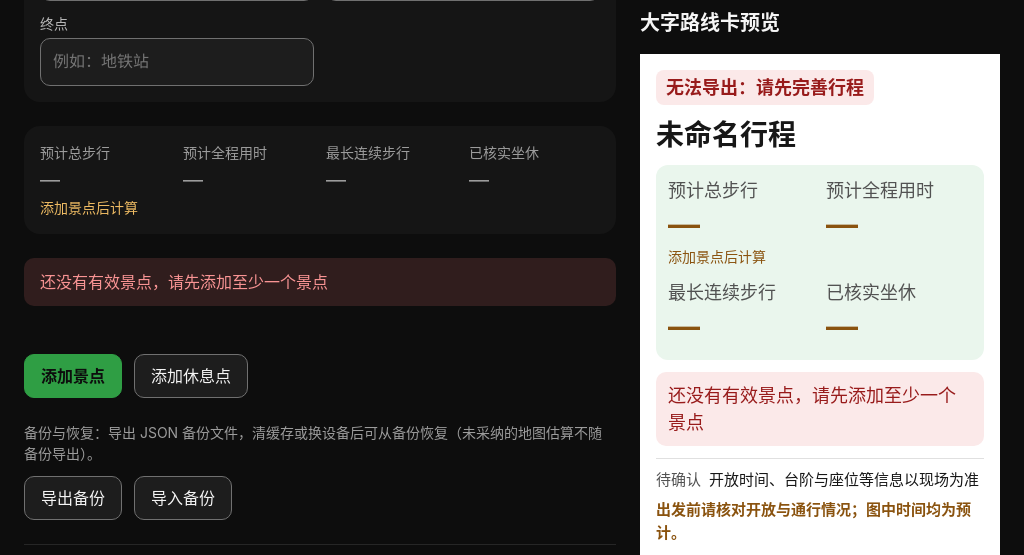
Test: 应用组件流程 › 跳过可选景点：进入已跳过区并可恢复（R07）
The width and height of the screenshot is (1024, 555).
(page scrolled)
Click the button "添加景点" at (73,376), box [24,354,122,398]
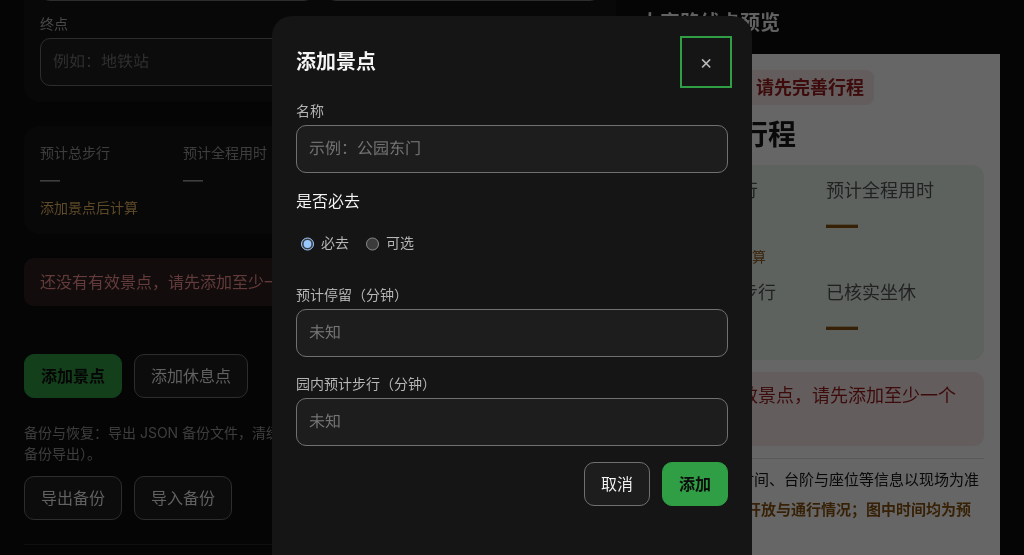
Type "可选景点丁" into the field labelled "名称" at (512,149), box [296,125,728,173]
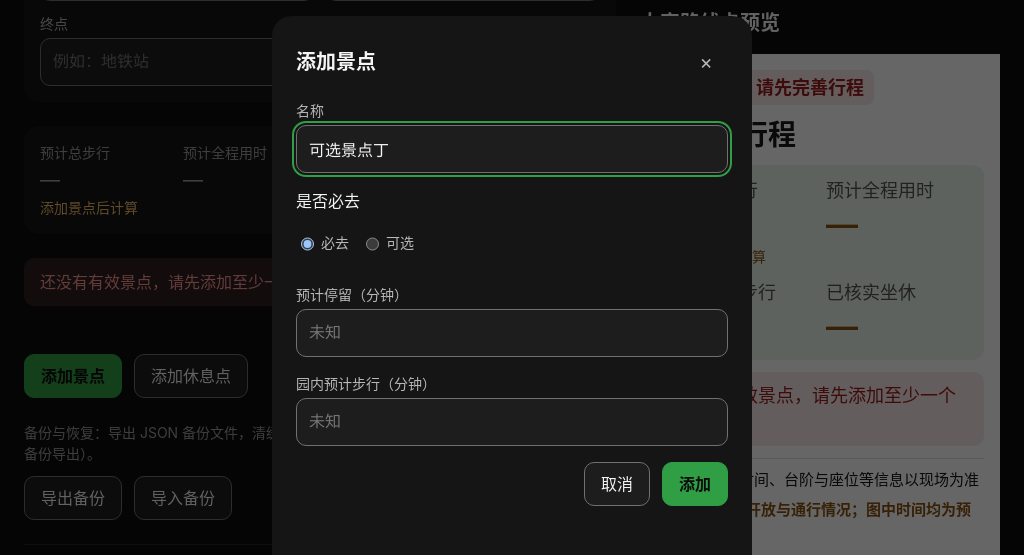
Click the radio button labelled "可选" at (372,244), box [366,220,379,268]
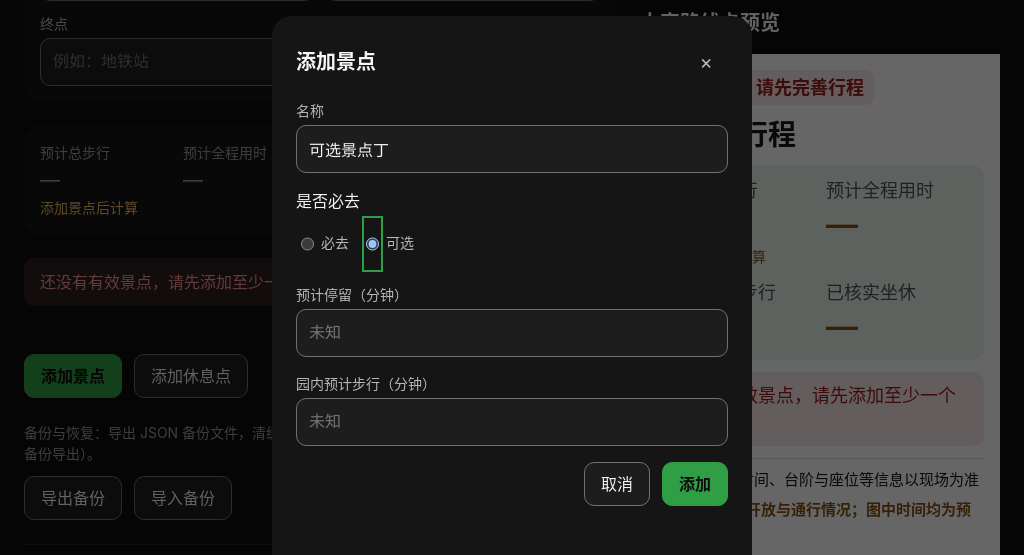
Click the button "添加" at (695,484), box [662,462,728,506]
(page scrolled)
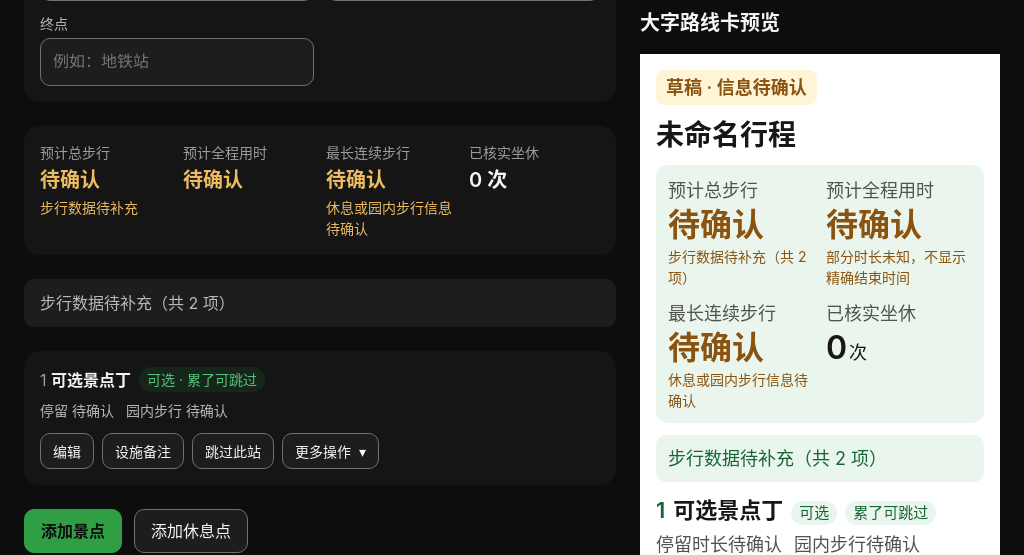
Click the button "跳过此站" at (233,451), box [192,433,274,469]
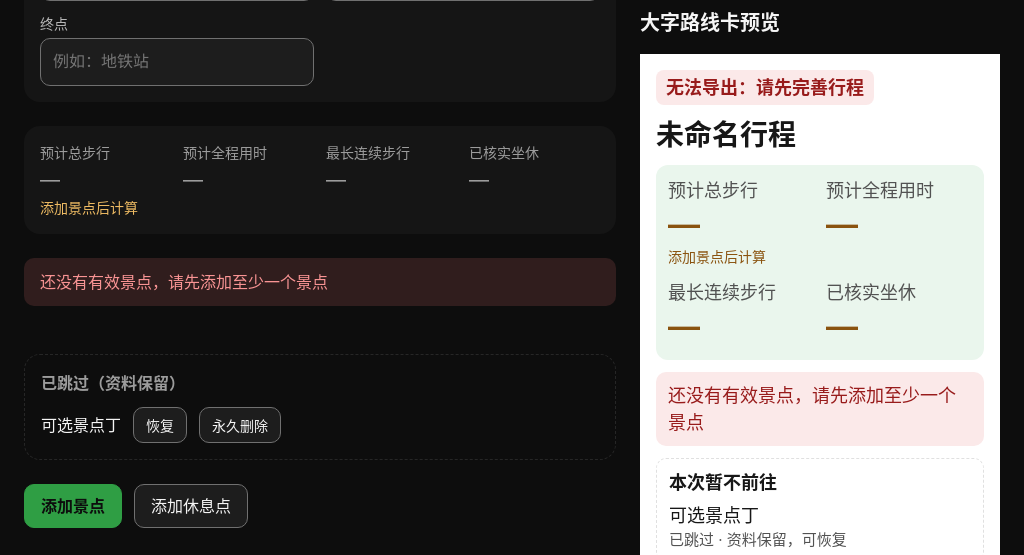
Check: the heading "已跳过（资料保留）" is shown, box [41,373,185,393]
Click the button "恢复" at (160,425), box [133,407,187,443]
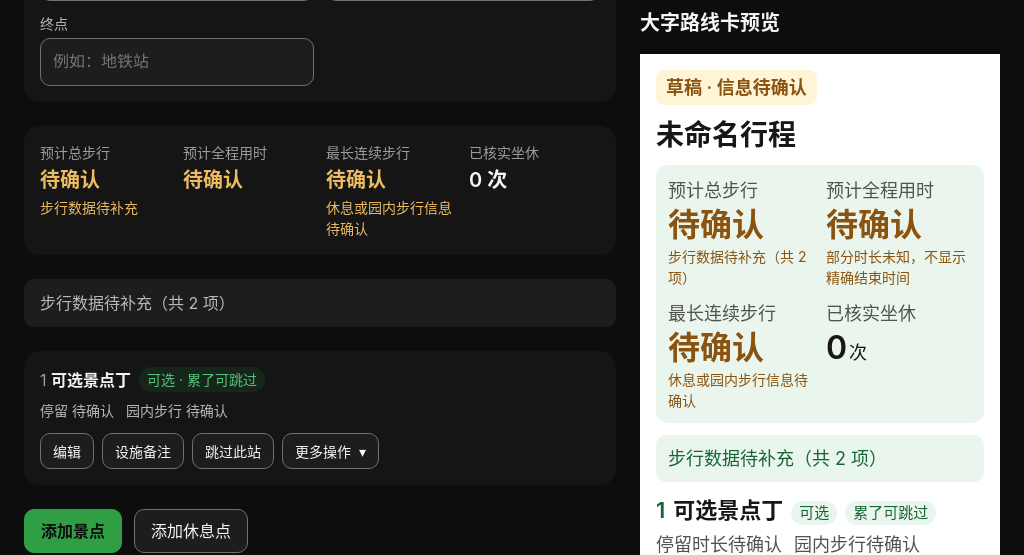
Check: the element "可选景点丁" is shown, box [24,351,616,485]
